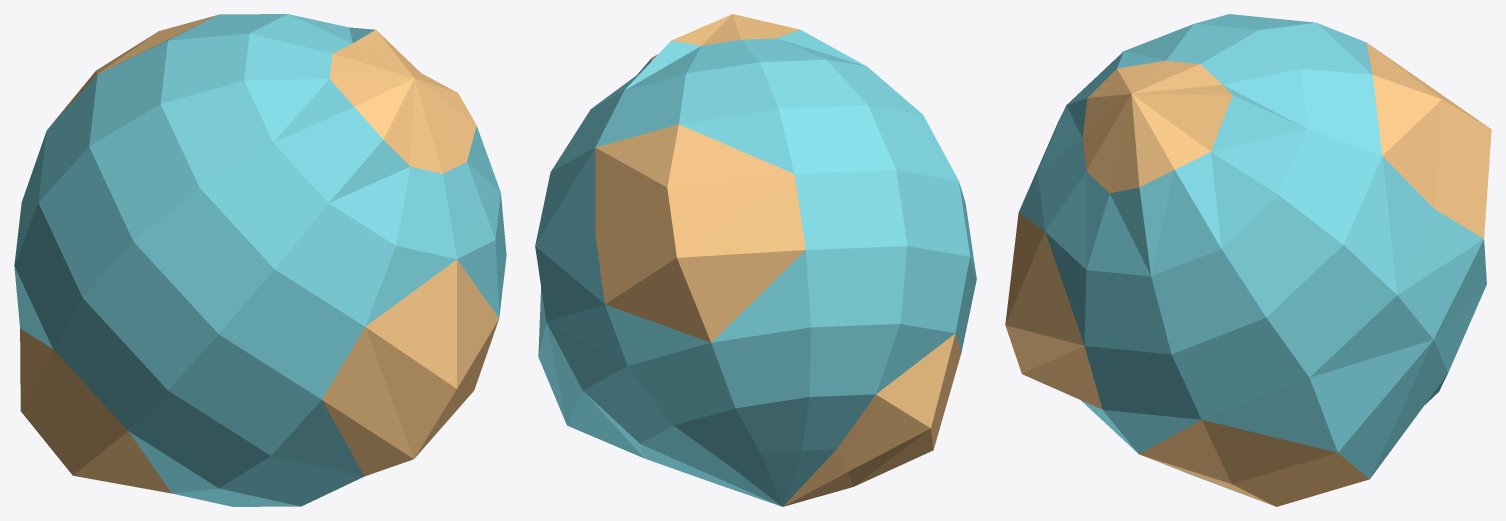
3 views of the same model, side by side, from view 1: azimuth 30°, elevation 25°; view 2: azimuth 150°, elevation 25°; view 3: azimuth 270°, elevation 25° (orthographic). The views are drawn at different scales.
Parts seen in each view (by area): view 1: mesh_940837609; view 2: mesh_940837609; view 3: mesh_940837609.
Part boxes in pixels (x1=…): mesh_940837609: x1=14, y1=14, x2=506, y2=506; mesh_940837609: x1=535, y1=14, x2=976, y2=506; mesh_940837609: x1=1005, y1=14, x2=1491, y2=506.
Bounding box in the file's own units: 113 × 114 × 117.
